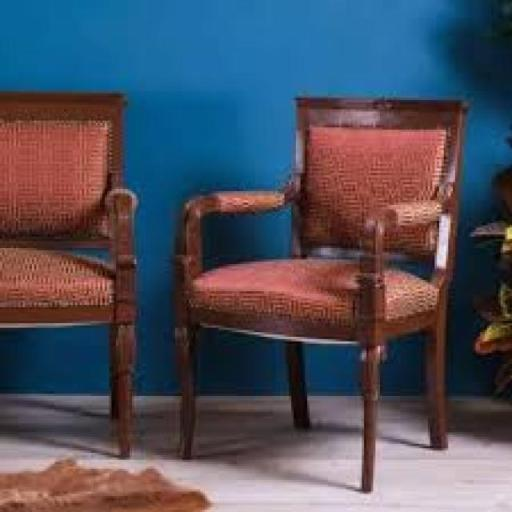sofa: (170, 80, 494, 473)
